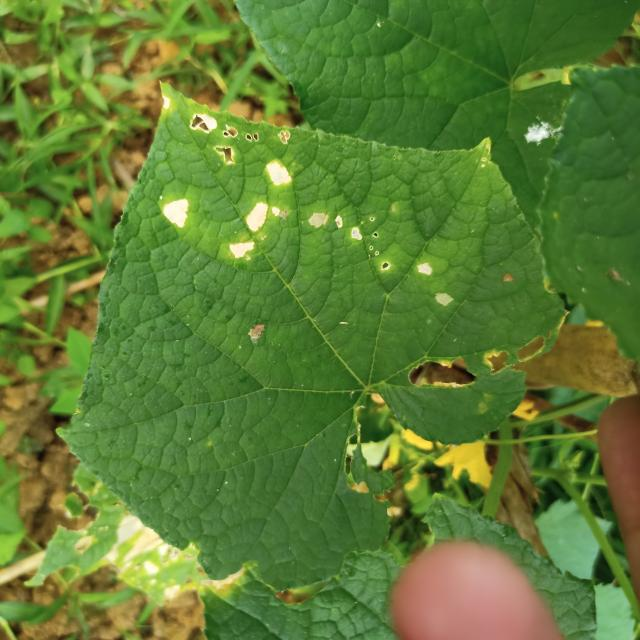disease_cucumber: (161, 109, 476, 322)
